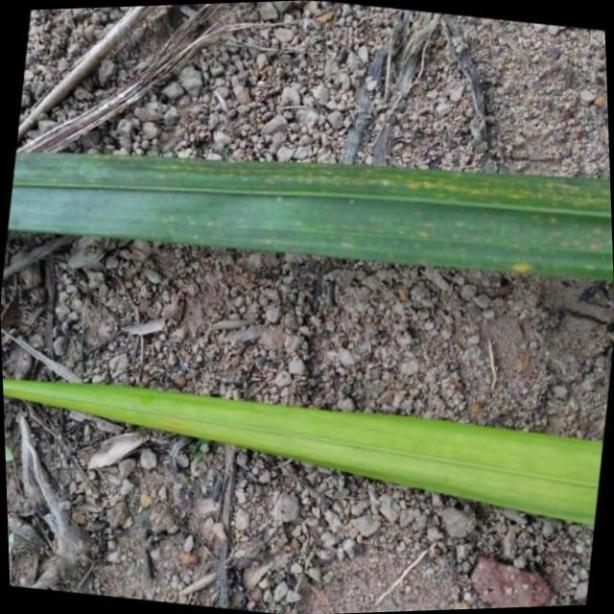nitrogen: (3, 358, 614, 533), (0, 139, 614, 278)
